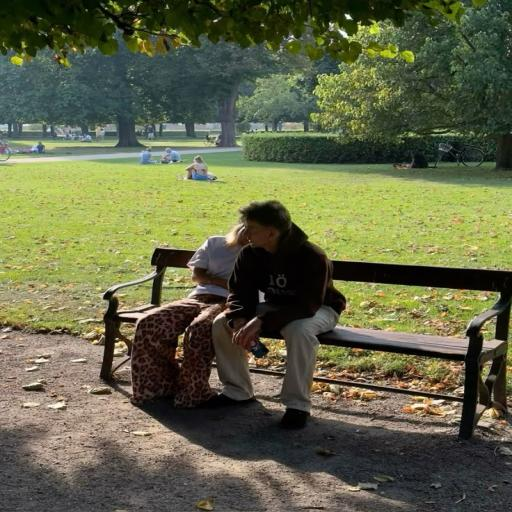laptop: (205, 200, 345, 429), (131, 225, 246, 408), (394, 151, 429, 168), (186, 156, 208, 180), (160, 148, 181, 163), (140, 148, 156, 164), (36, 141, 45, 153), (147, 126, 155, 139), (214, 133, 221, 145), (27, 145, 37, 153), (95, 127, 100, 140), (100, 128, 105, 139), (83, 135, 91, 141)
shelf: (10, 151, 139, 163)
trash_bin: (318, 261, 511, 439)
